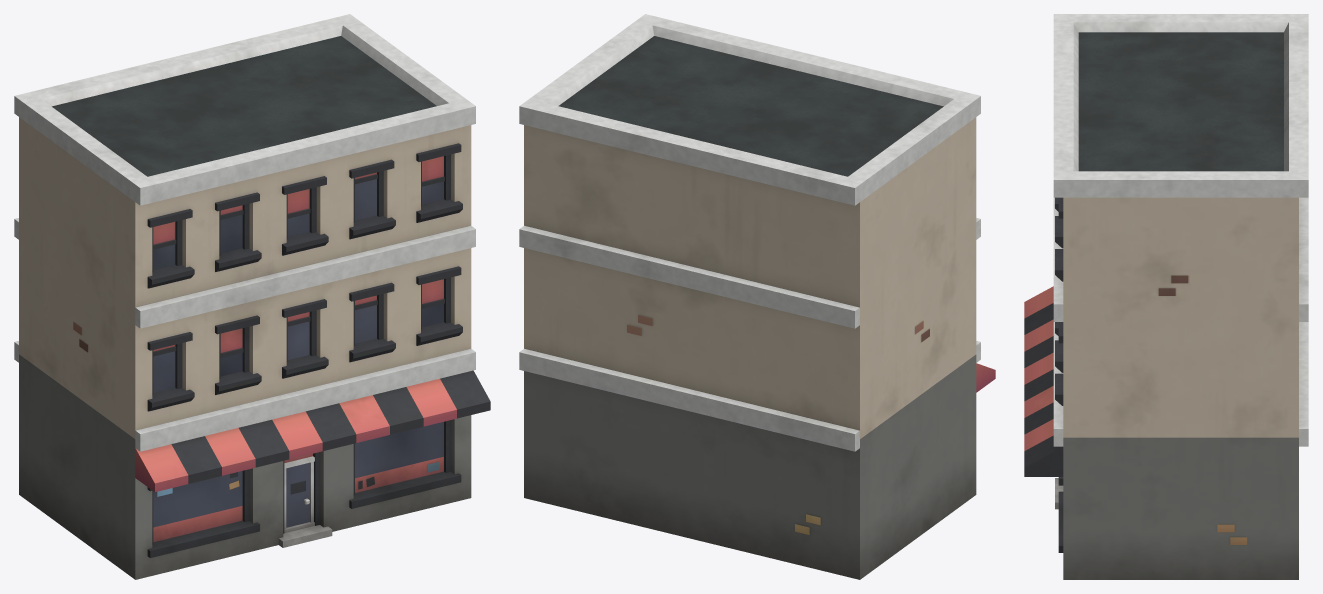
The model's file is building_E.glb.
3 renders of one model, left to right at view 1: azimuth 30°, elevation 25°; view 2: azimuth 150°, elevation 25°; view 3: azimuth 270°, elevation 25°, orthographic.
Parts seen in each view (by area): view 1: building_E_withoutBase; view 2: building_E_withoutBase; view 3: building_E_withoutBase.
Boxes of the visible parts, x1=… form: building_E_withoutBase: x1=14, y1=14, x2=490, y2=579; building_E_withoutBase: x1=519, y1=14, x2=995, y2=579; building_E_withoutBase: x1=1024, y1=14, x2=1308, y2=579.
Bounding box in the file's own units: 2.01 × 2.25 × 1.45.
2 materials, 2 textured.
